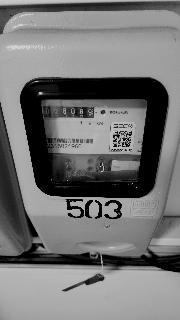1: (46, 109, 49, 114), (72, 109, 75, 114)
3: (55, 109, 58, 114)
9: (81, 109, 84, 115), (64, 109, 67, 114)
:: (89, 110, 92, 115)
